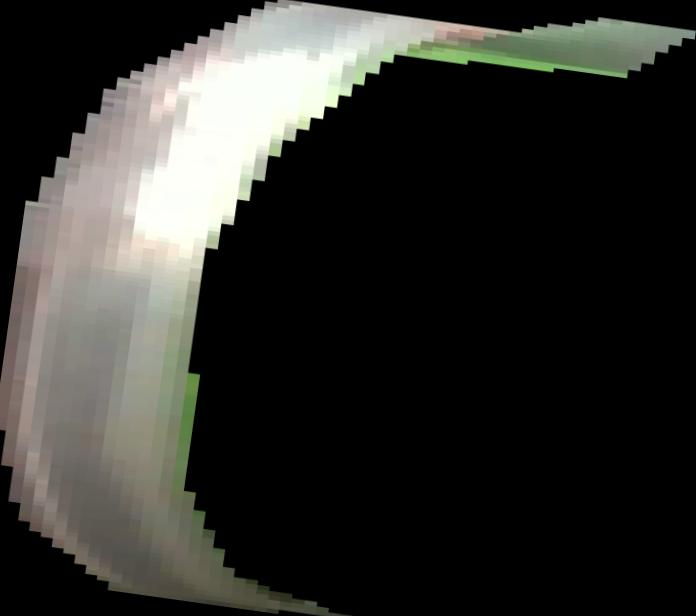head: (1, 0, 696, 616)
